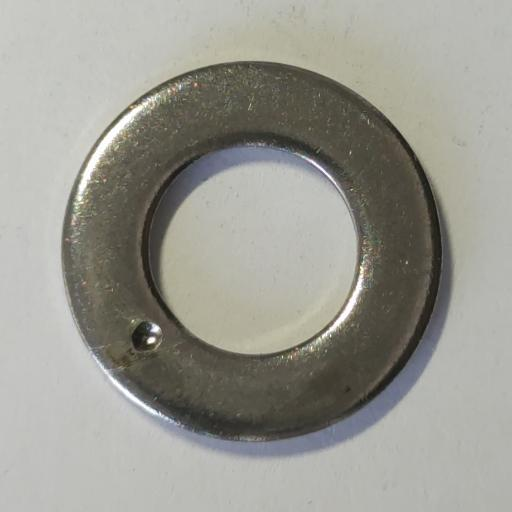circular_cavity: (131, 321, 163, 351)
